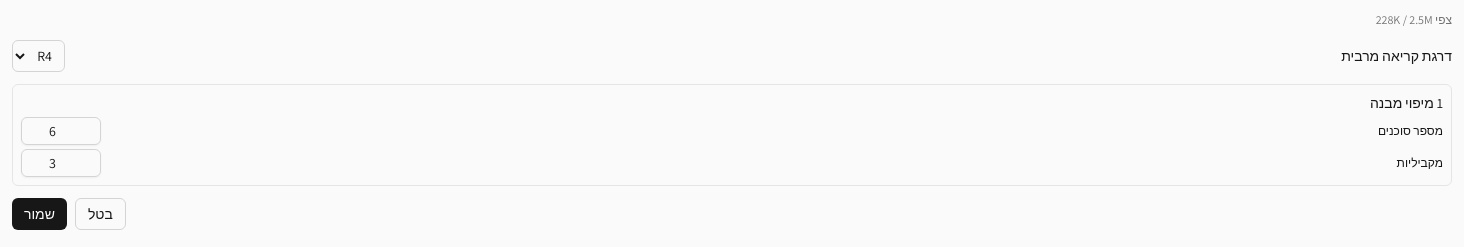
PlanEditor (UX.md §4 עריכה) › shows the live estimate and updates it immediately when a stage's agent count changes
This screenshot has width=1464, height=247.
Expected: the text "צפי 228K / 2.5M" is shown, [1376,12,1452,27]
Replace the text in the number field labelled "מספר סוכנים" with "3" at x=61, y=131, box [21,117,101,145]
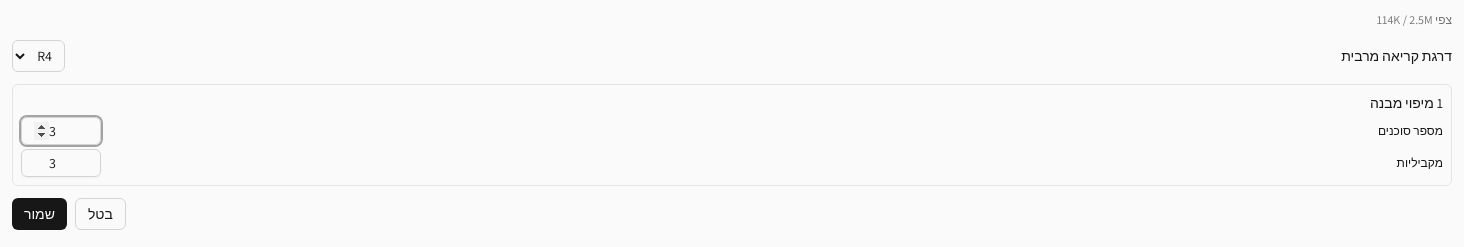
Result: the text "צפי 114K / 2.5M" is shown at [1377,12,1452,27]
